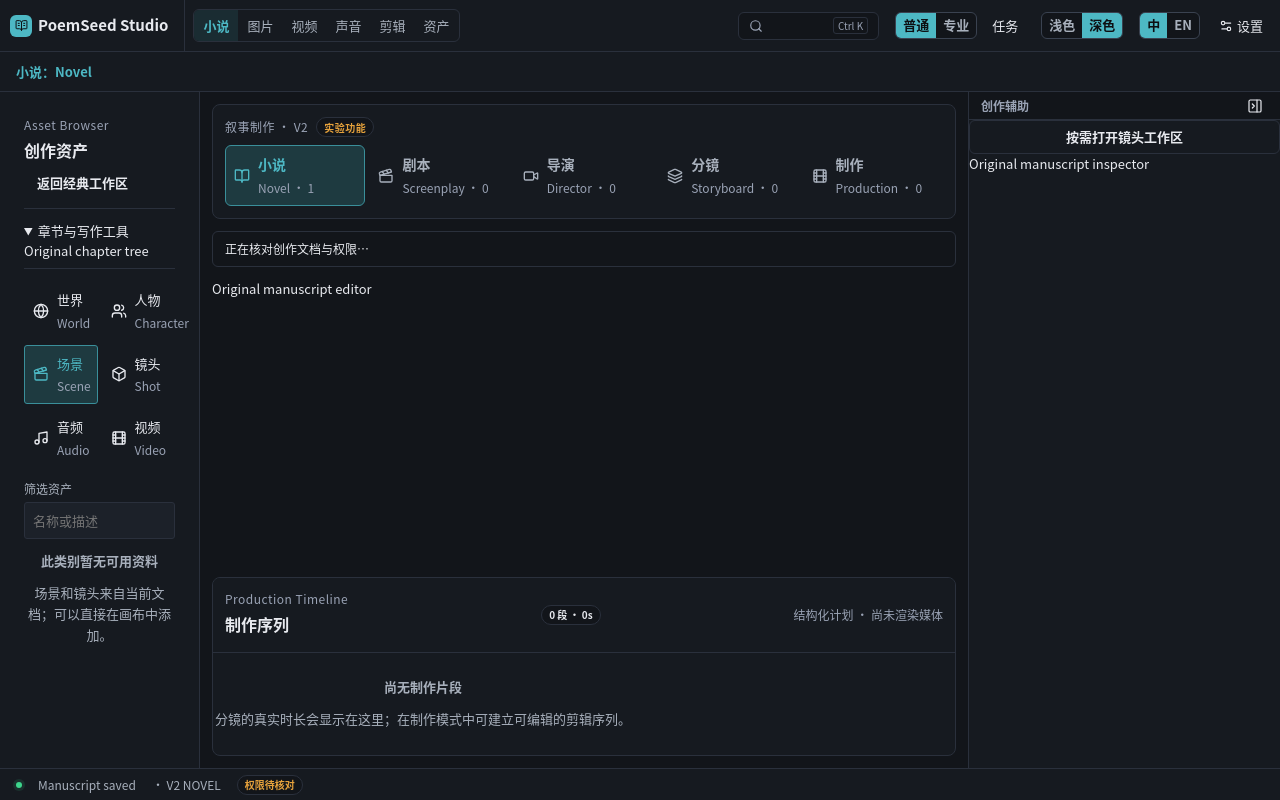
Test case: creative workspace protected manuscript and request boundaries › initializes only the latest selected stage after a delayed successful empty list
The image size is (1280, 800).
Click the tab "剧本 Screenplay · 0". click: (440, 176)
box: left=369, top=145, right=510, bottom=206
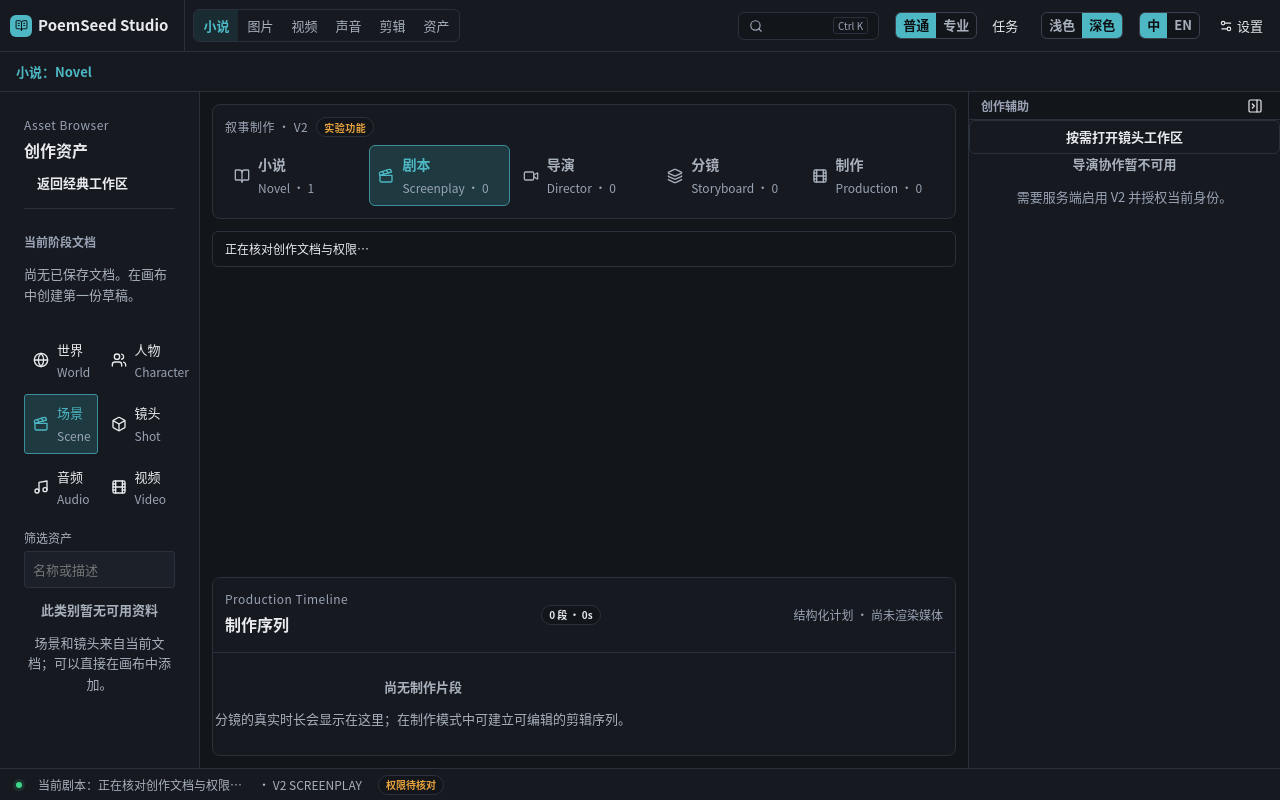
Click the tab "制作 Production · 0". click: (873, 176)
box: left=803, top=145, right=943, bottom=206
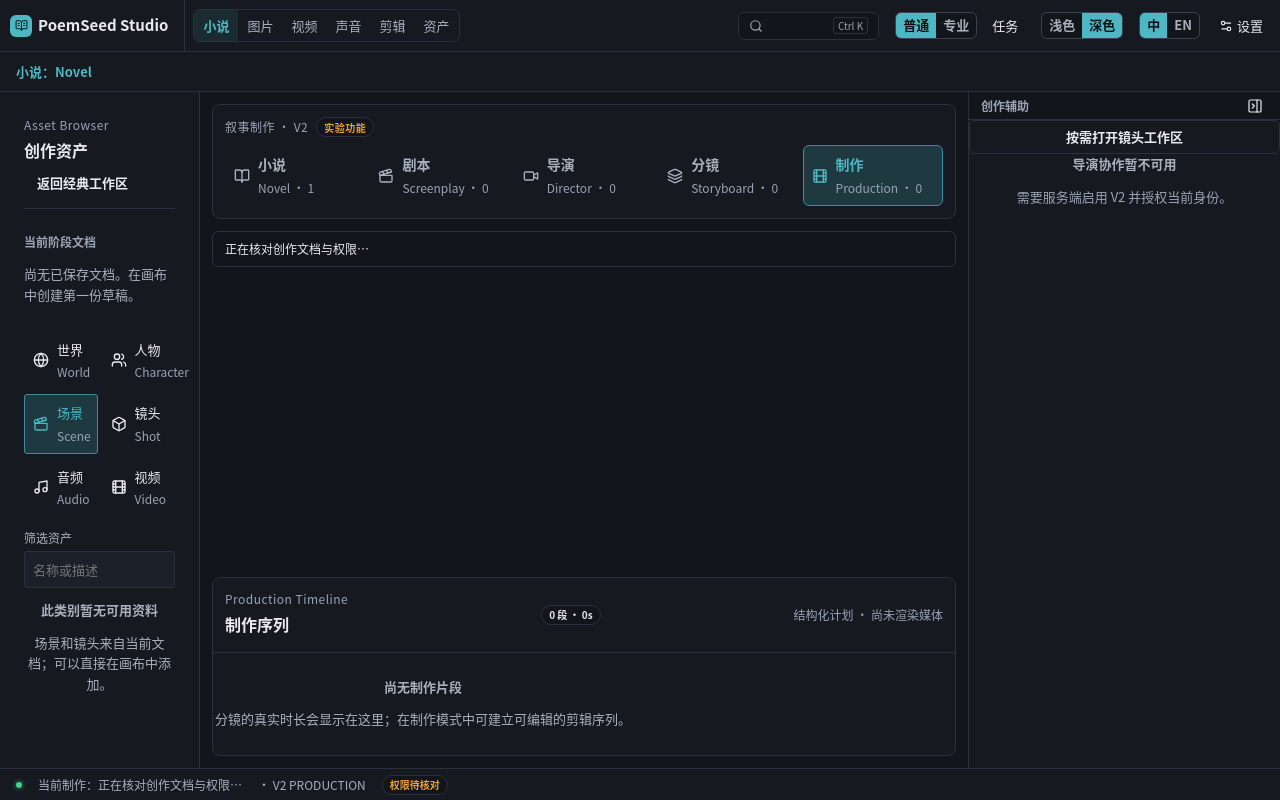
Click the tab "导演 Director · 0". click: (584, 176)
box: left=514, top=145, right=654, bottom=206
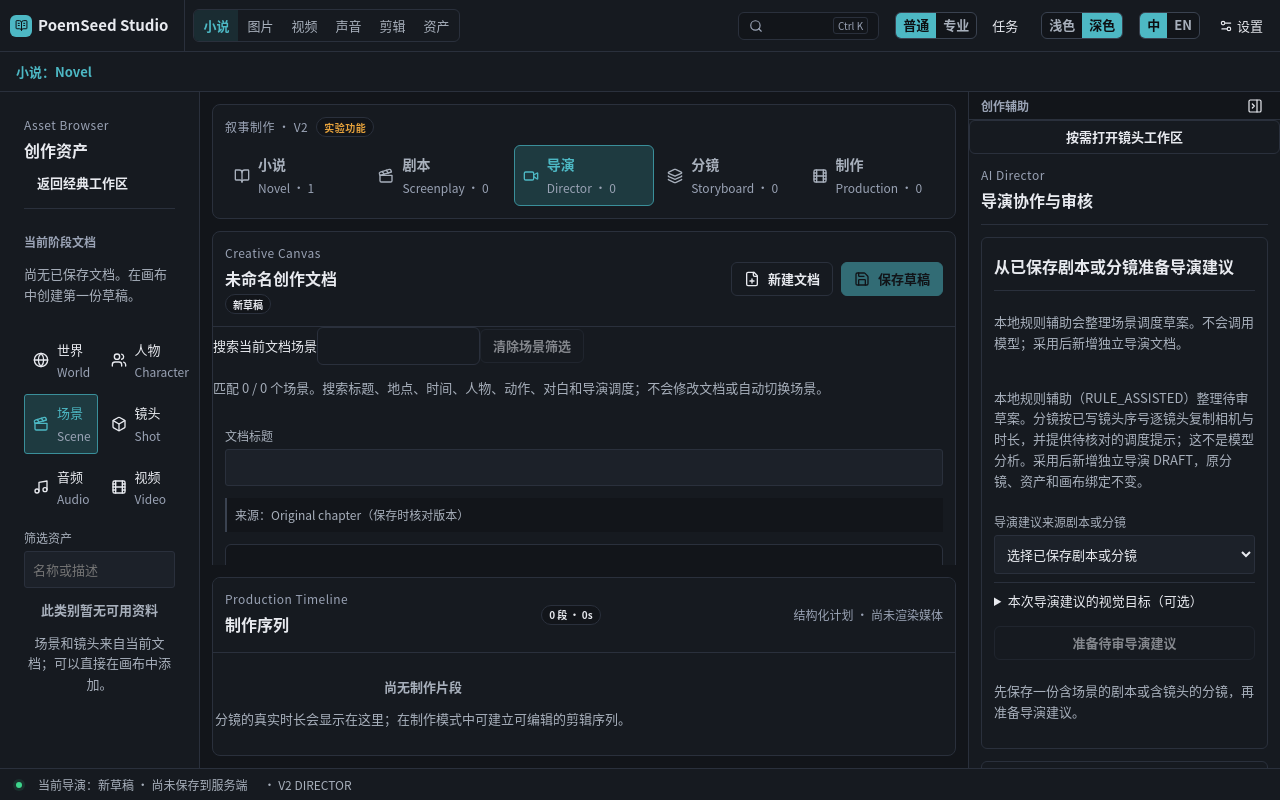
expect the text "新草稿" is shown: met, box left=225, top=294, right=271, bottom=314
Type "Manual director draft" into the field labelled "文档标题". click: (584, 468)
box: left=225, top=449, right=943, bottom=486
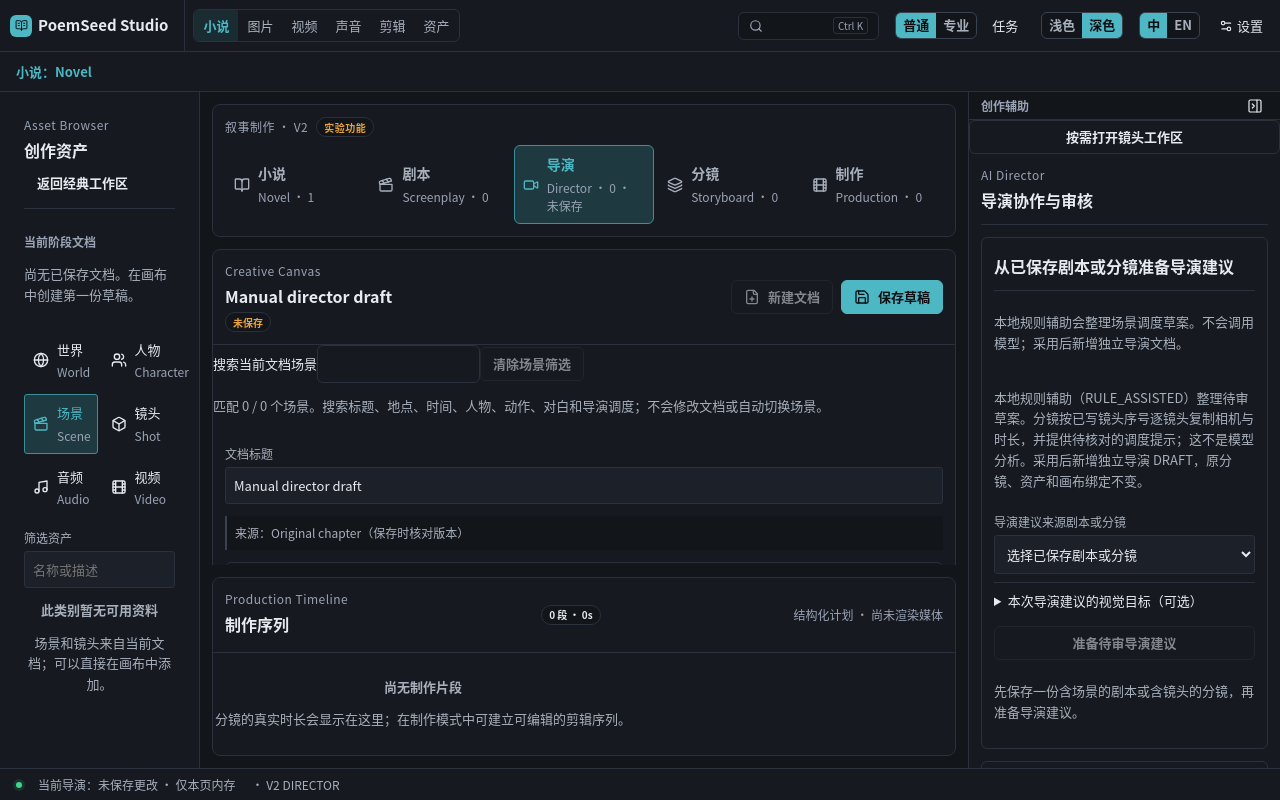
Click the tab "剧本 Screenplay · 0". click: (440, 184)
box: left=369, top=145, right=510, bottom=224
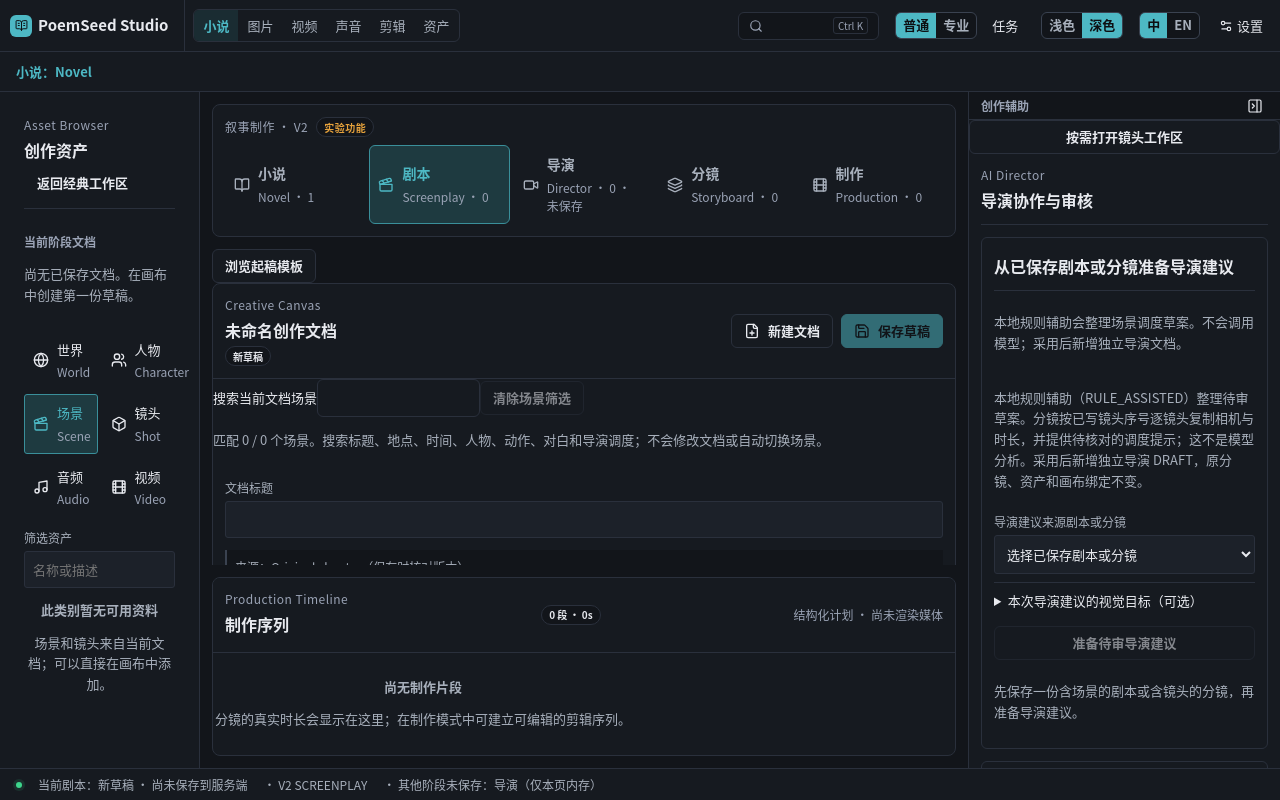
Click the tab "导演 Director · 0 · 未保存". click: (584, 184)
box: left=514, top=145, right=654, bottom=224
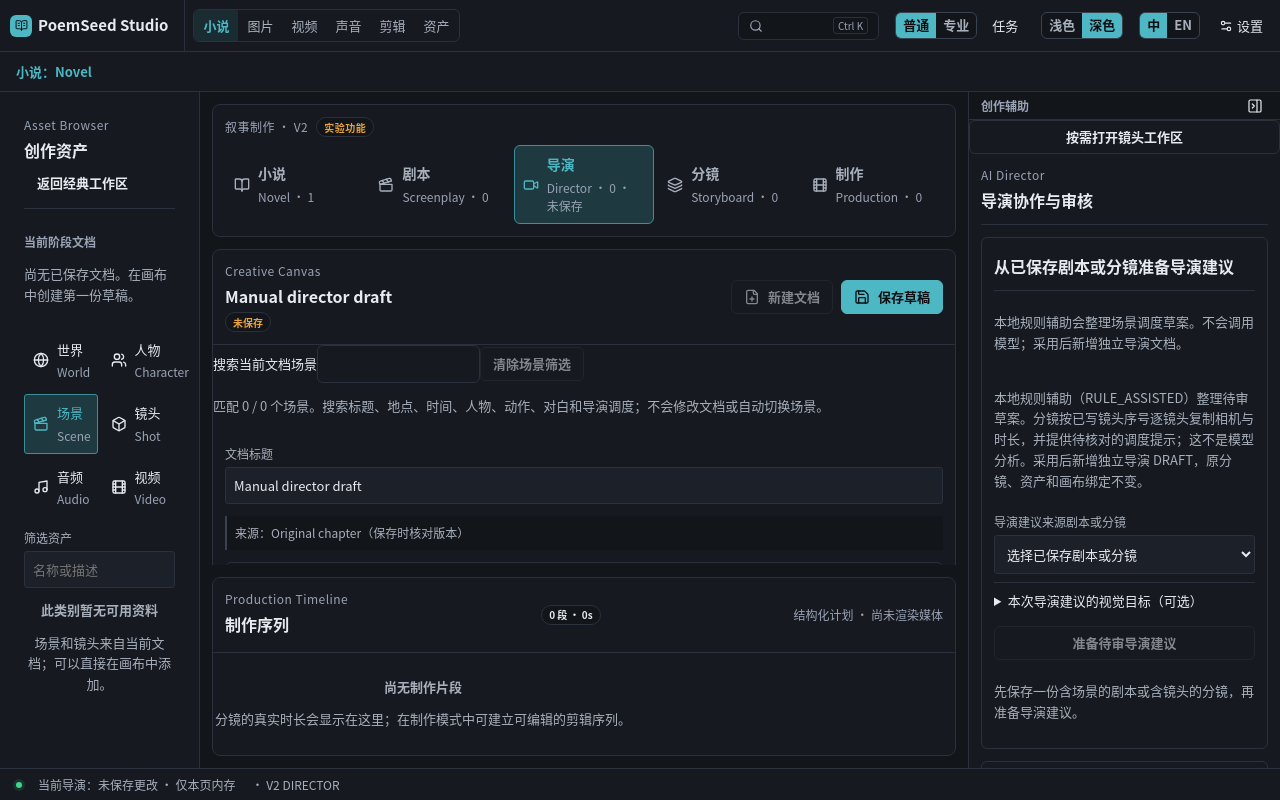
expect the field labelled "文档标题" holds "Manual director draft": met, box left=225, top=467, right=943, bottom=504
